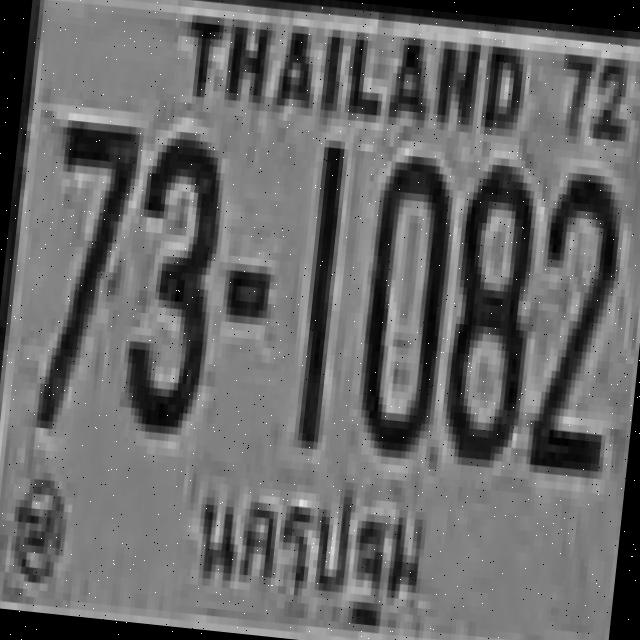0: (351, 146, 455, 452)
1: (289, 135, 345, 445)
2: (521, 164, 625, 470)
3: (117, 120, 225, 428)
7: (30, 112, 138, 427)
8: (437, 154, 541, 462)
NakhonPathom: (179, 449, 444, 640)
